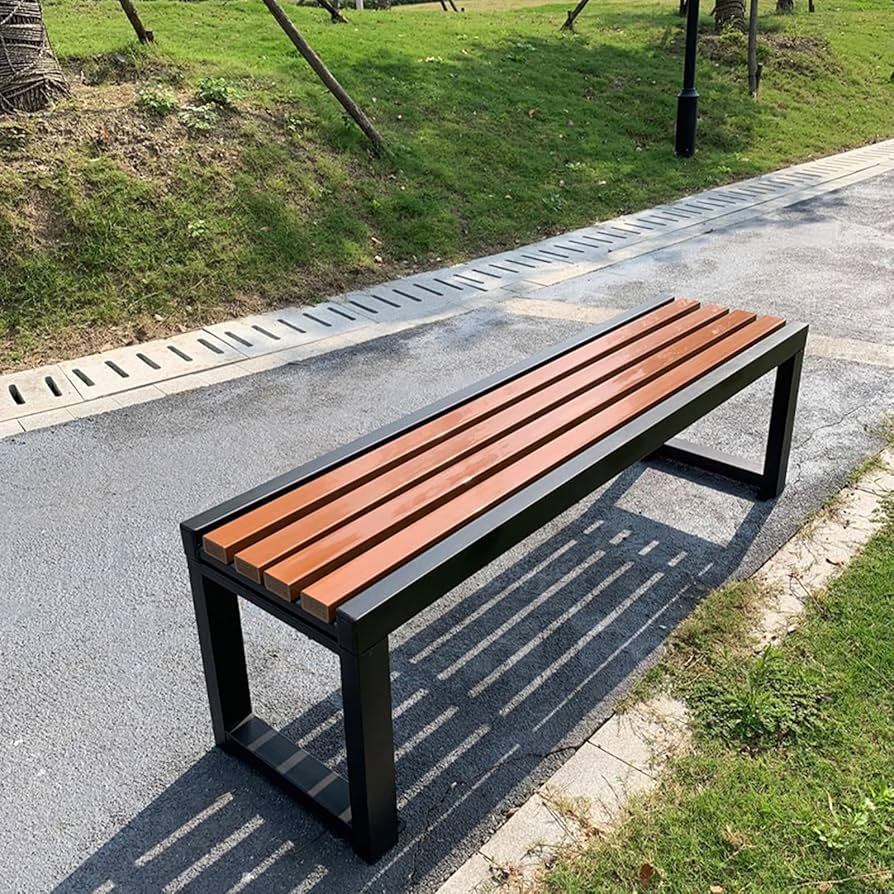Chair: (175, 294, 820, 866)
